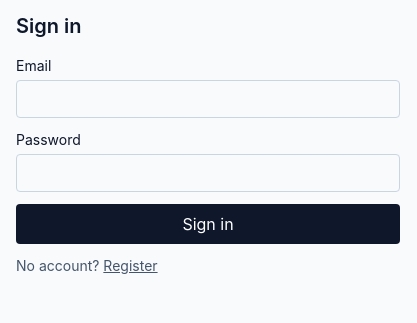
Test: LoginPage › shows an error message on invalid credentials
In the field labelled "Email": (208, 99) [16,80,400,118], type "dev@example.com"
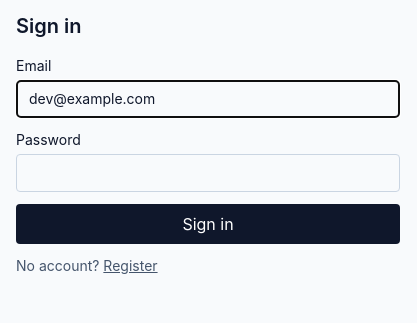
In the password field labelled "Password": (208, 173) [16,154,400,192], type "wrong-password"
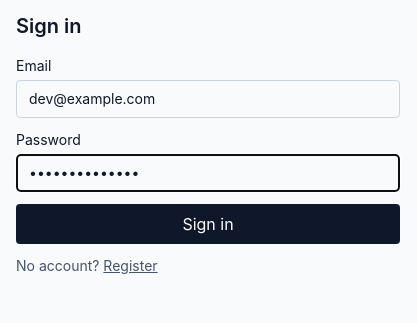
Click the button "Sign in": (208, 224) [16,204,400,244]
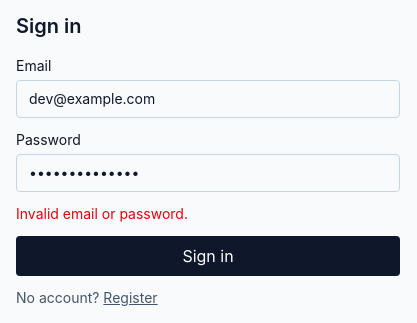
Check: the message reads "Invalid email or password.", box [16,205,188,222]
